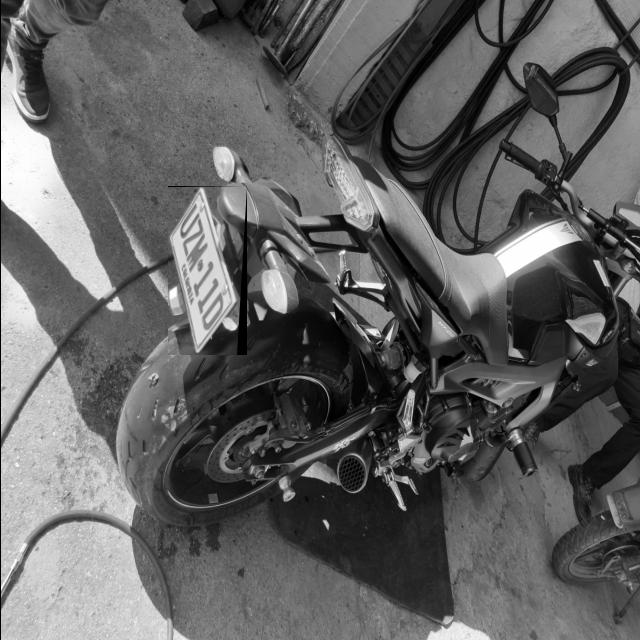plate: (167, 187, 240, 355)
